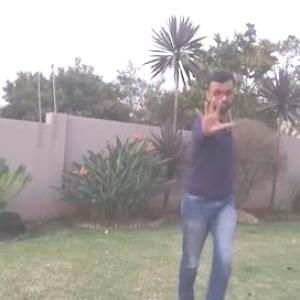follow_hand: (192, 93, 236, 138)
